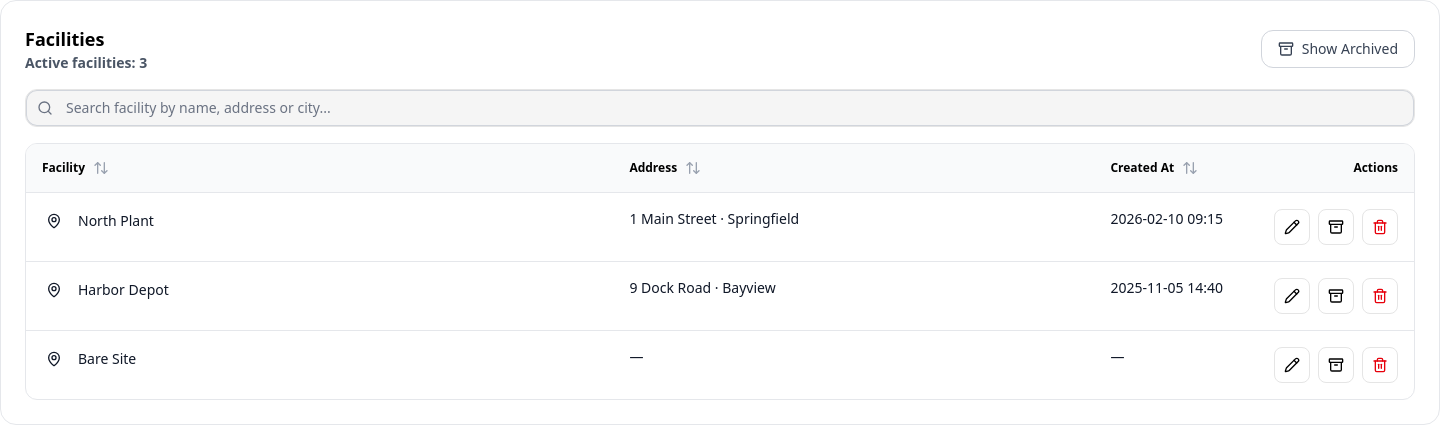
Scenario: FacilitiesContent › archived toggle › switches back to the active facilities
The width and height of the screenshot is (1440, 442).
Step 1. Click the button with aria-label "Show archived facilities" → x=1338, y=49, box [1261, 30, 1415, 68]
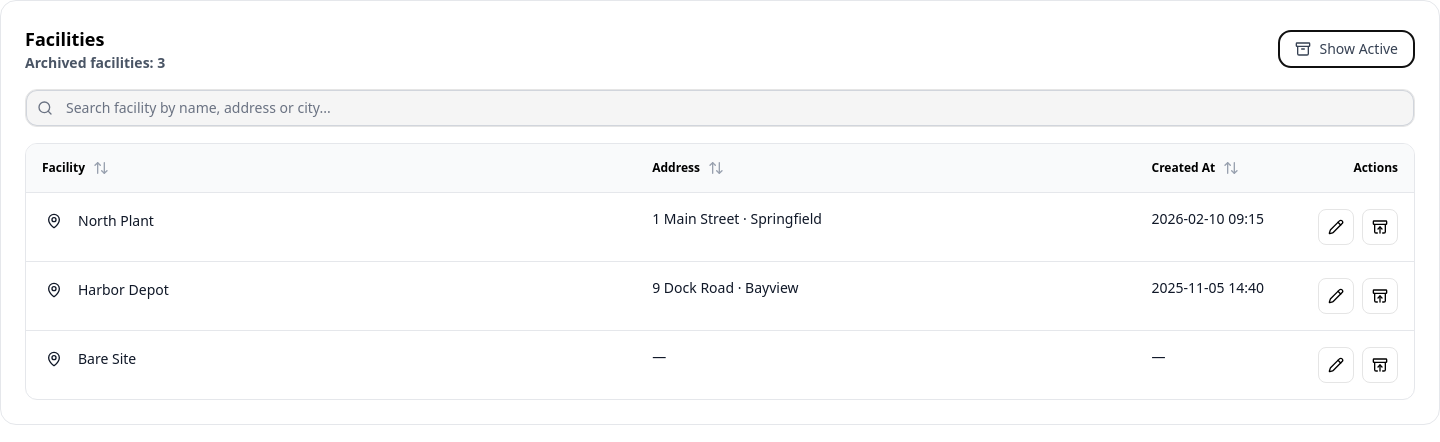
Step 2. Click the button with aria-label "Show active facilities" → x=1347, y=49, box [1278, 30, 1415, 68]
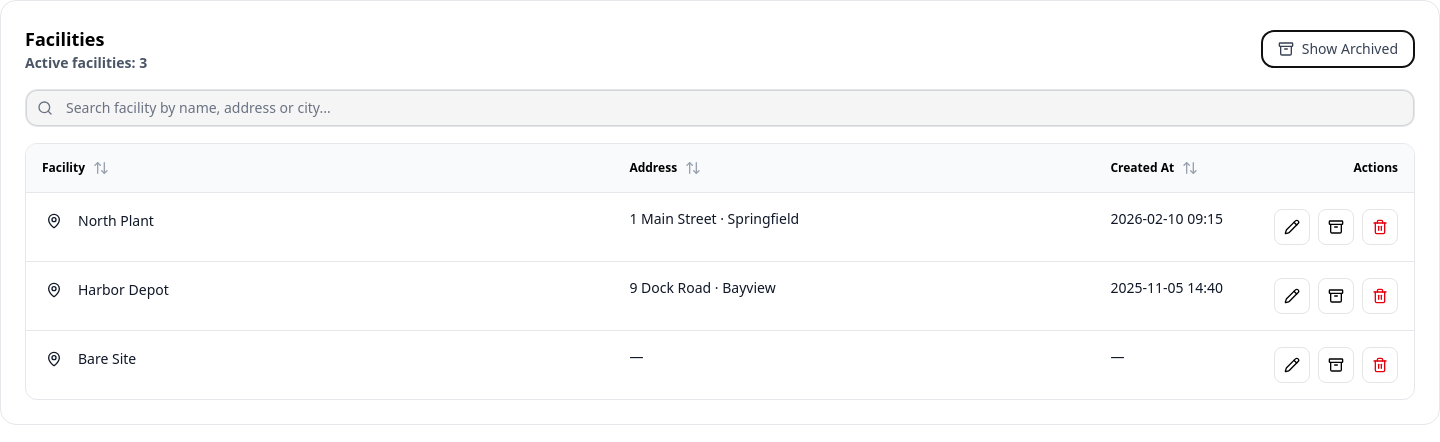
Expected: the text "Active facilities: 3" is shown, [25, 53, 147, 73]
